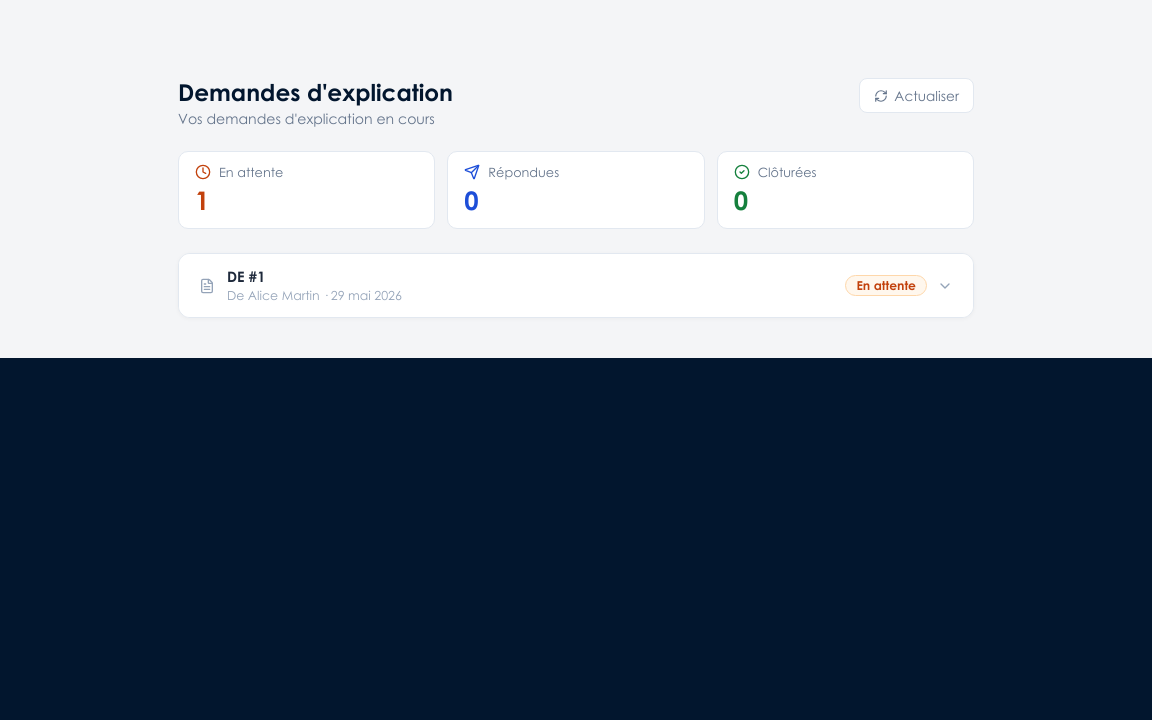
Test case: DemandeExplicationPage — vue Employé › expande la carte DE au clic
Note: Cliquer sur la carte pour l'étendre
Click the text "DE #1".
click(246, 276)  # box [227, 268, 265, 285]
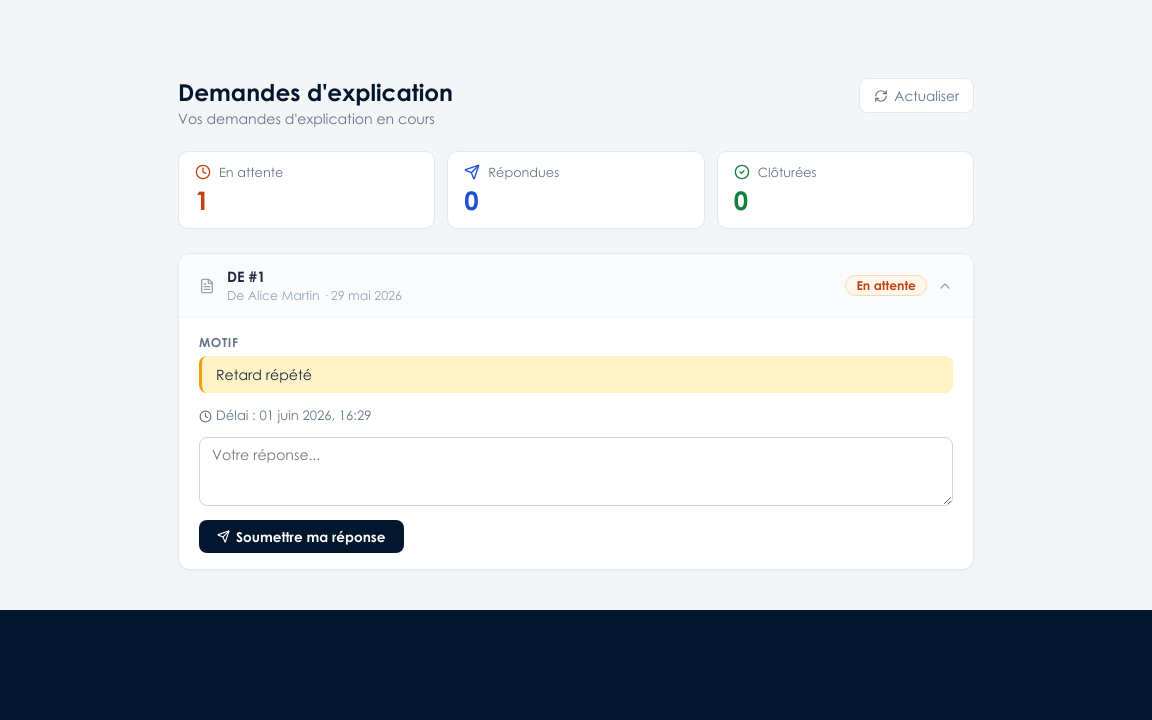
Expected: the text "Retard répété" is shown, [199, 356, 953, 393]
